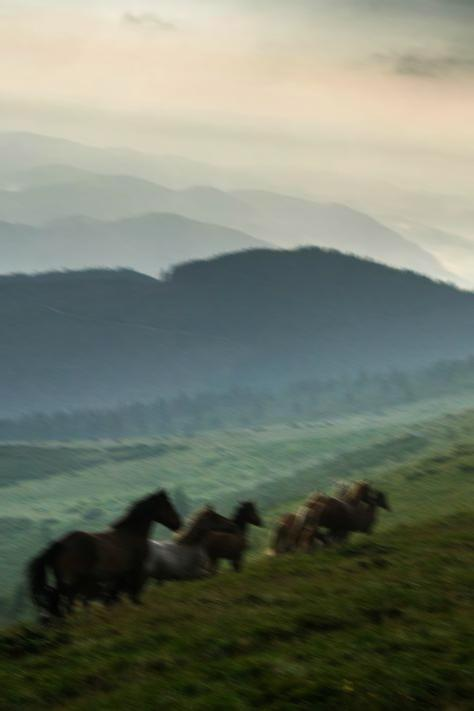horse: (21, 485, 184, 625)
